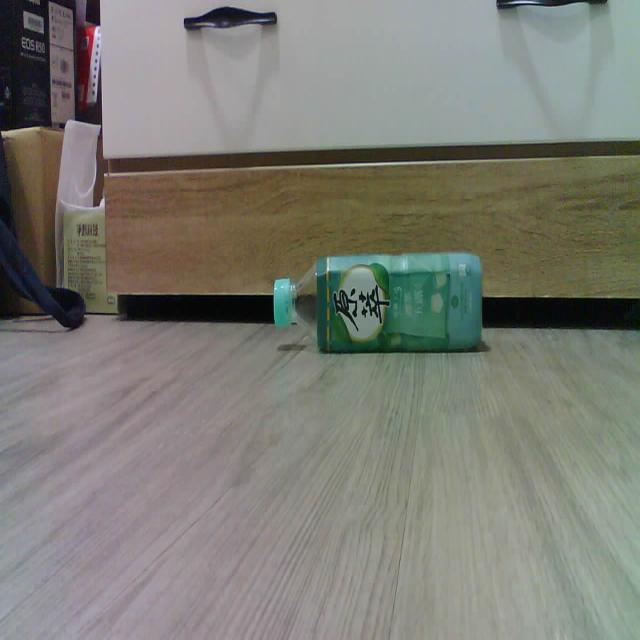bottle: (274, 252, 482, 351)
